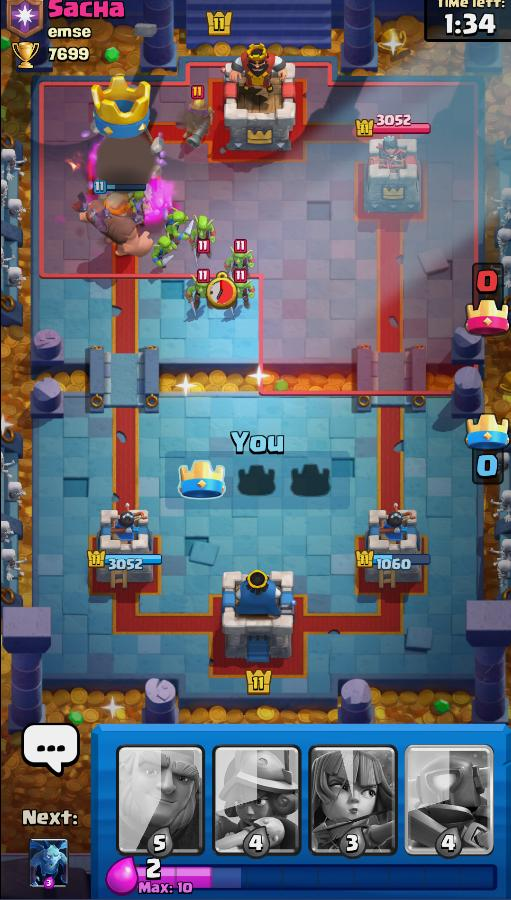bat: (90, 207, 112, 230), (74, 193, 88, 213)
geant: (84, 186, 153, 264)
gobelin: (226, 278, 262, 316), (191, 212, 219, 258), (183, 276, 215, 316), (161, 208, 189, 244), (225, 249, 256, 274), (153, 237, 177, 266), (129, 190, 152, 218)
mousquetaire: (181, 100, 214, 145)
